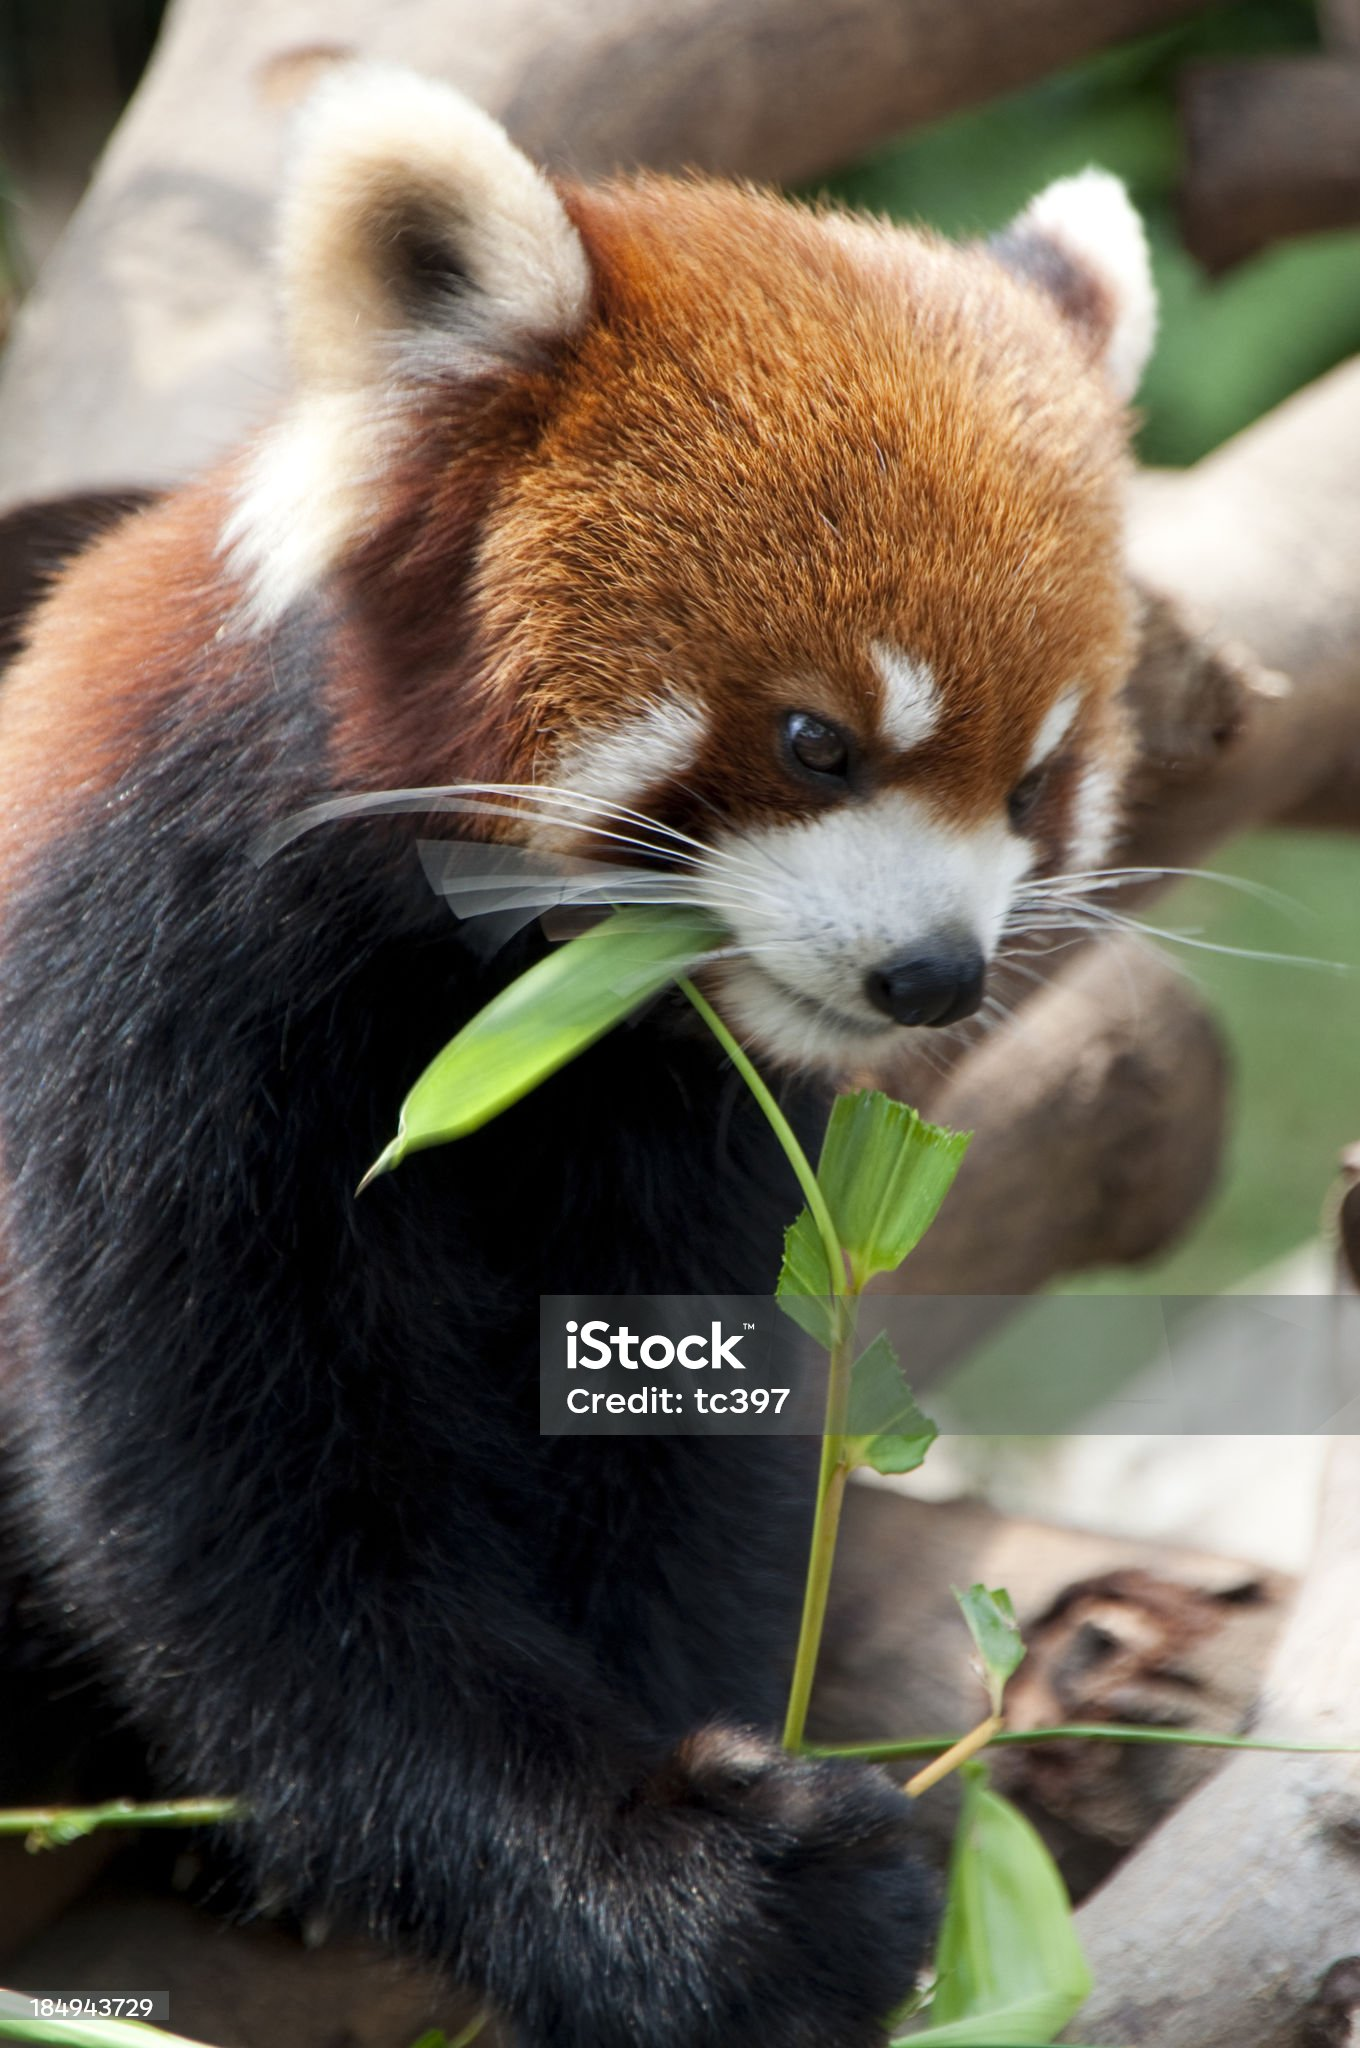Red panda: (246, 50, 1182, 1103)
